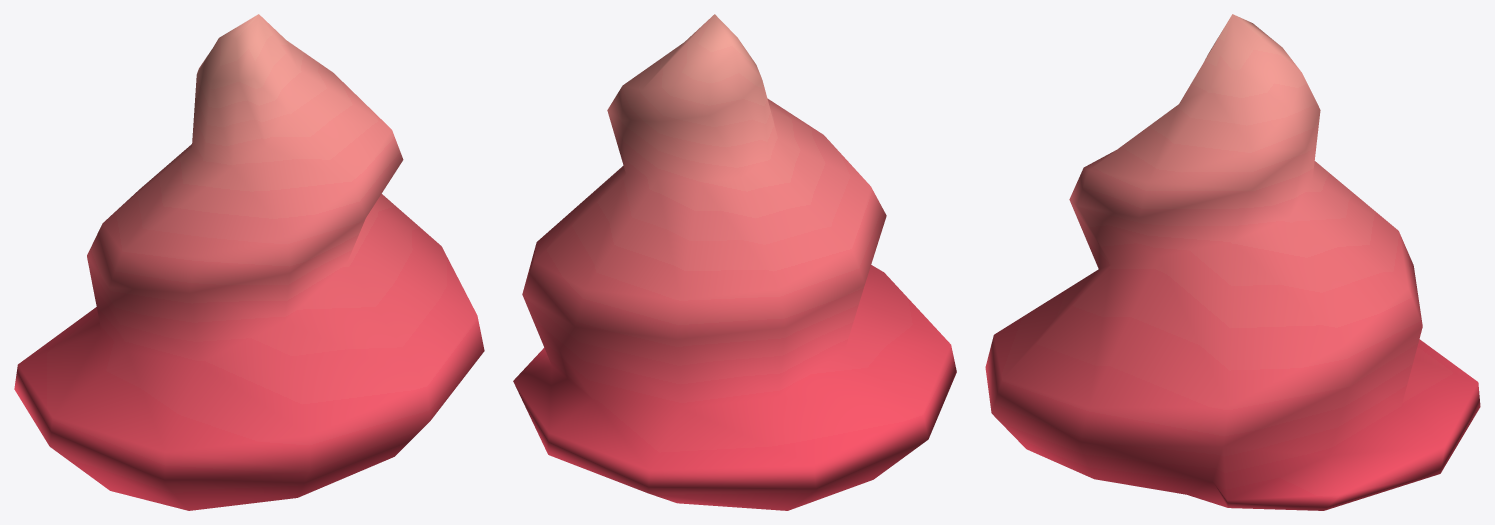
Rendered from ShellC.fbx.
3 renders of one model, left to right at view 1: azimuth 30°, elevation 25°; view 2: azimuth 150°, elevation 25°; view 3: azimuth 270°, elevation 25°, orthographic. The views are drawn at different scales.
Parts seen in each view (by area): view 1: ShellC; view 2: ShellC; view 3: ShellC.
Part boxes in pixels (box(x1,y1,x2,y2)): ShellC: box(14, 14, 484, 510); ShellC: box(513, 14, 956, 510); ShellC: box(985, 14, 1480, 510).
Size of the model in its own units: 27.31 by 28.4 by 27.02.
Materials: 1 (1 with a texture image).
